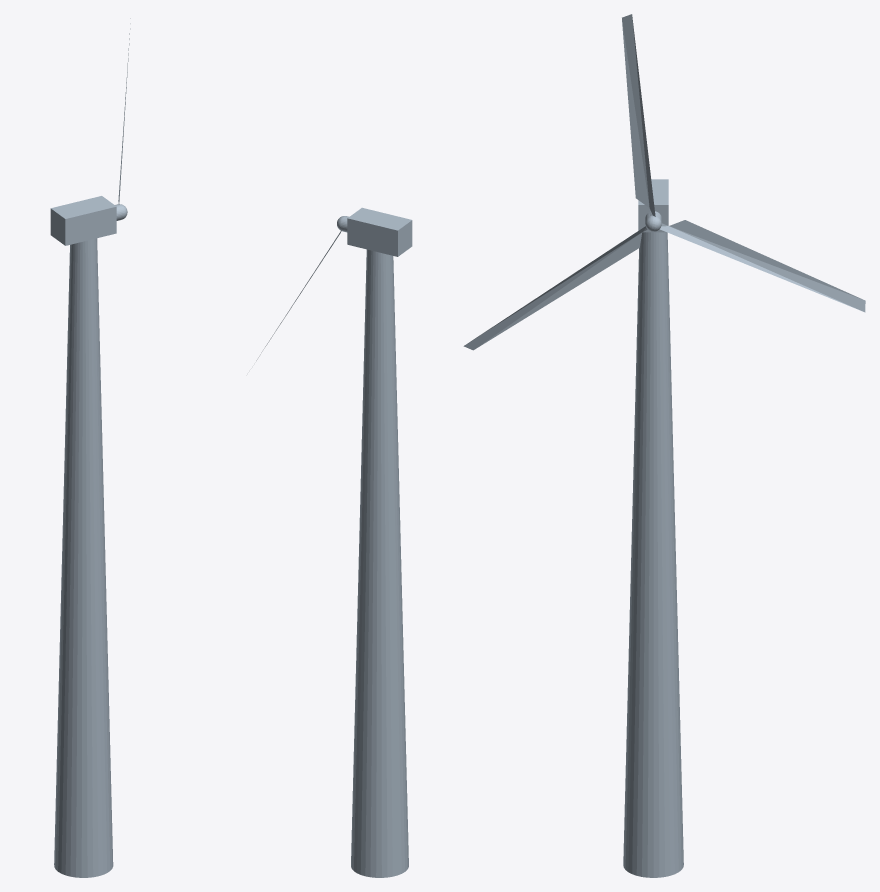
The model's file is turbine2.glb.
The picture shows the model from 3 angles, left to right: view 1: azimuth 30°, elevation 25°; view 2: azimuth 150°, elevation 25°; view 3: azimuth 270°, elevation 25°; orthographic projection. The views are drawn at different scales.
Parts seen in each view (by area): view 1: tower, Nacelle; view 2: tower, Nacelle; view 3: tower, blades, Nacelle.
Part boxes in pixels (left/top/right/bottom): tower: left=54, top=238, right=113, bottom=877; Nacelle: left=50, top=196, right=116, bottom=245; tower: left=351, top=249, right=408, bottom=877; Nacelle: left=347, top=207, right=412, bottom=256; tower: left=623, top=232, right=683, bottom=877; blades: left=463, top=14, right=865, bottom=350; Nacelle: left=638, top=179, right=668, bottom=232.
Size of the model in its own units: 2.67 by 31.65 by 13.27.
